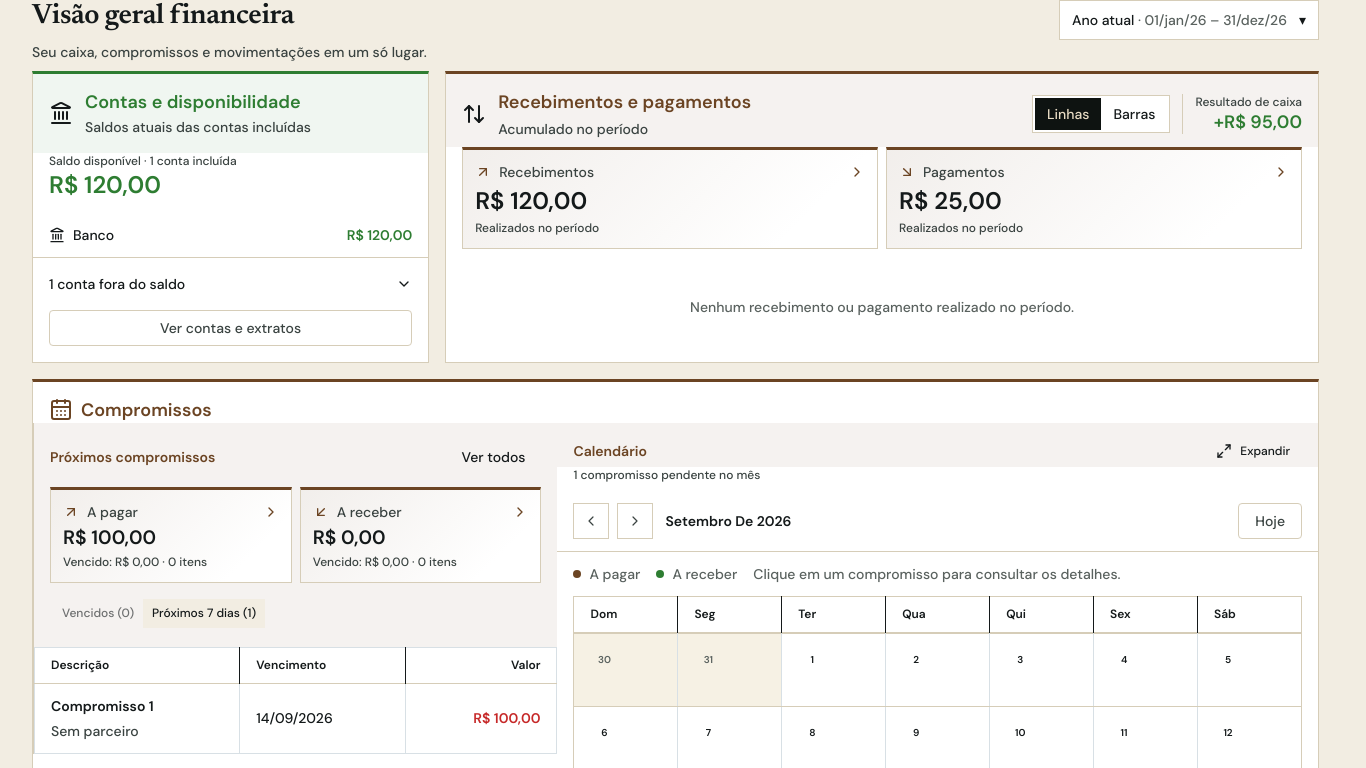
it: visualizações financeiras integradas › mantém a visão geral somente para consulta sem a permissão de lançar
Click the button with aria-label "Expandir calendário". click: point(1253, 451)
box: [1204, 435, 1302, 467]
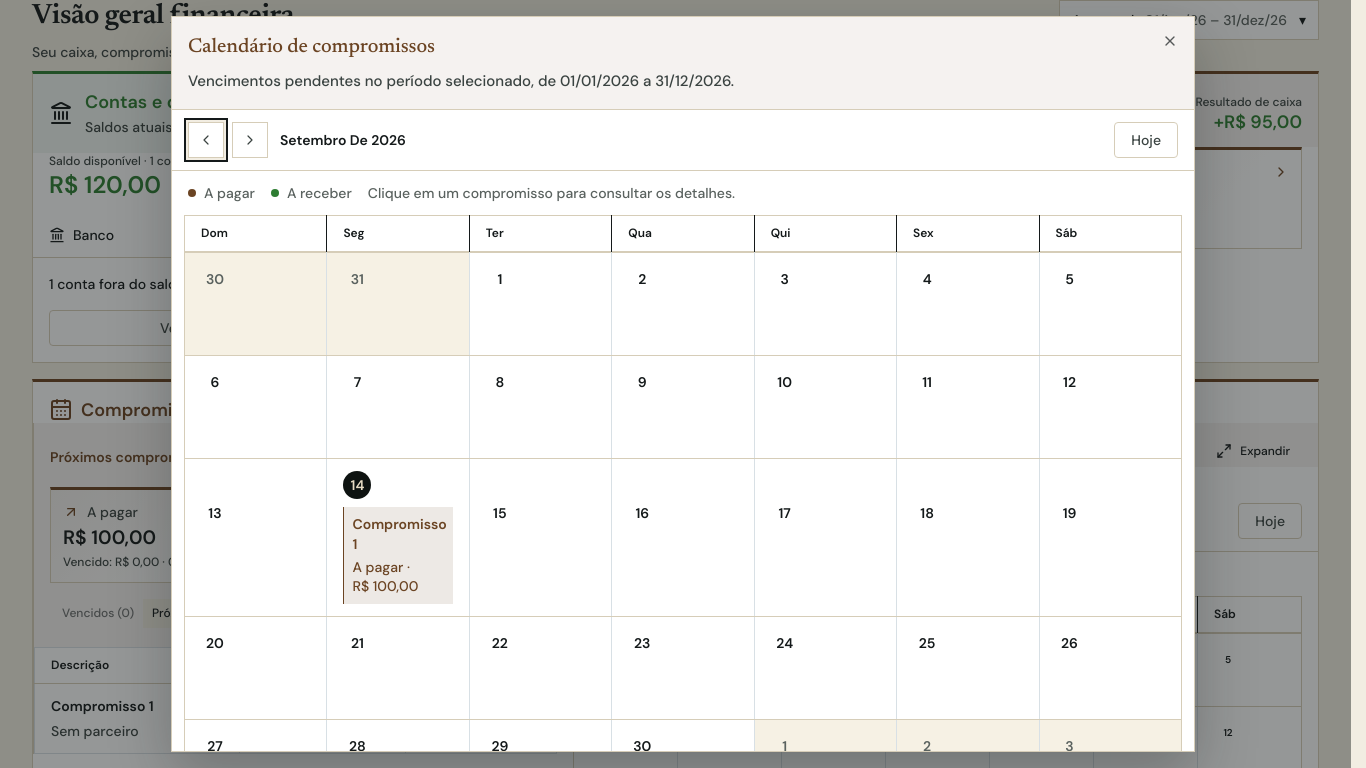
Click the button with aria-label "Compromisso 1, a pagar". click: point(398, 556)
box: [343, 507, 453, 604]
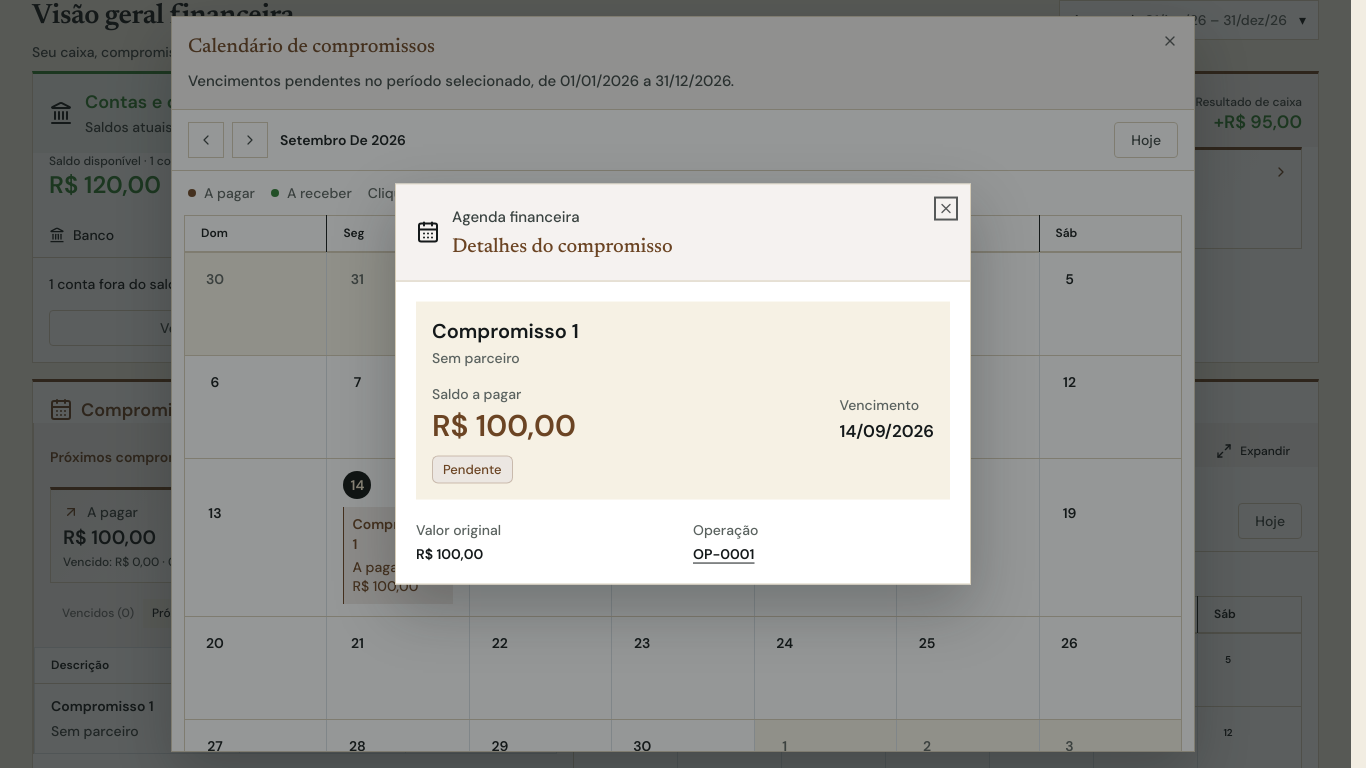
Result: the dialog "Detalhes do compromisso" is shown at [395, 184, 971, 584]
